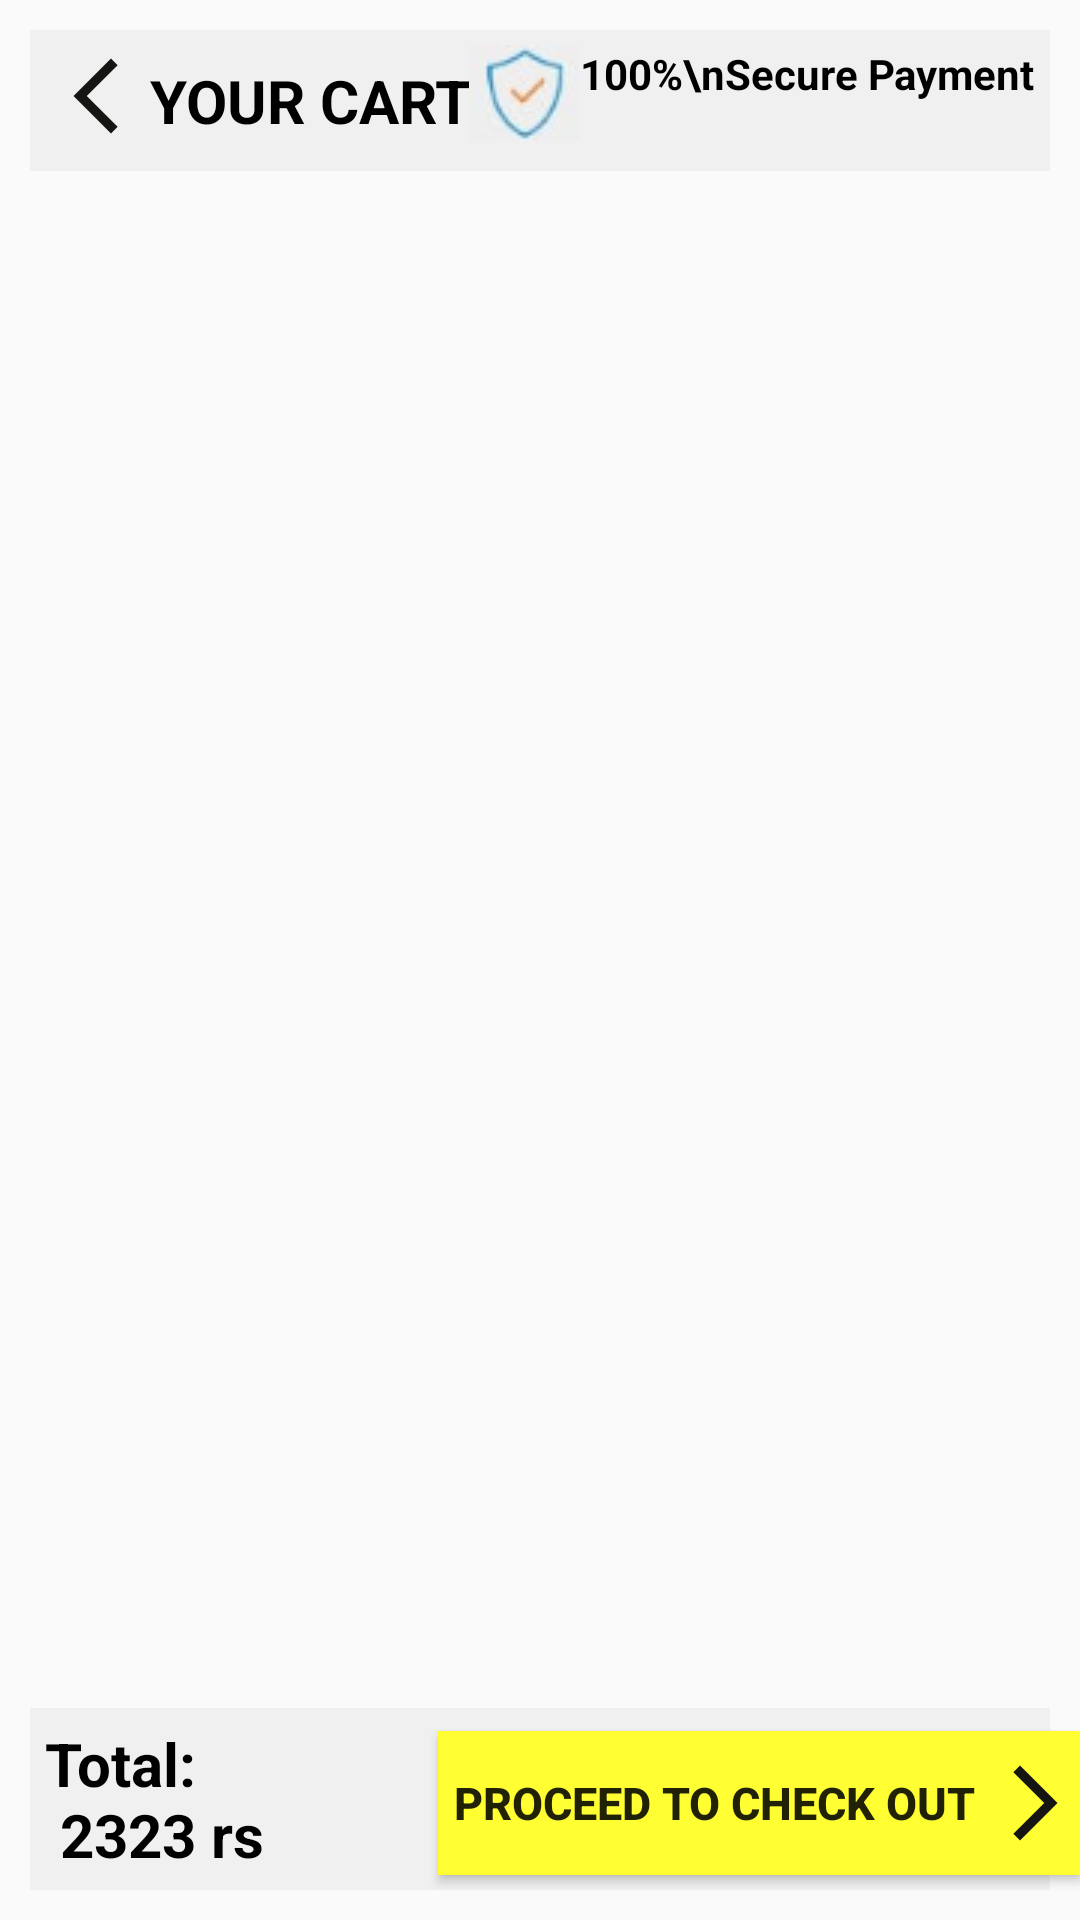

Where icons sit on this 1080 x 1920 app screen, as bbox(x1, y1, x2, y2):
backarrow: bbox(73, 58, 118, 134)
